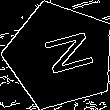N_W: (29, 29, 91, 82)
